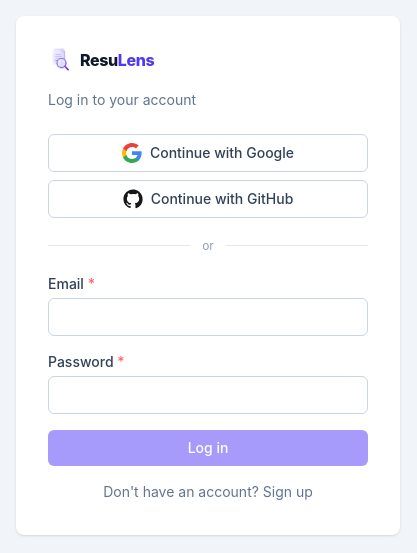
Test: AuthPage — login › login only requires non-empty fields — the real check is server-side
Expected: the button "Log in" is disabled, [48,430,368,466]
Type "a@b.com" into the field labelled "Email *". click: (208, 316)
box: [48,298,368,336]
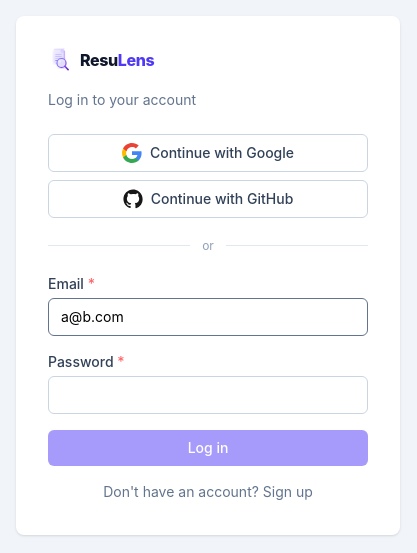
Type "x" into the password field labelled "Password *". click: (208, 394)
box: [48,376,368,414]
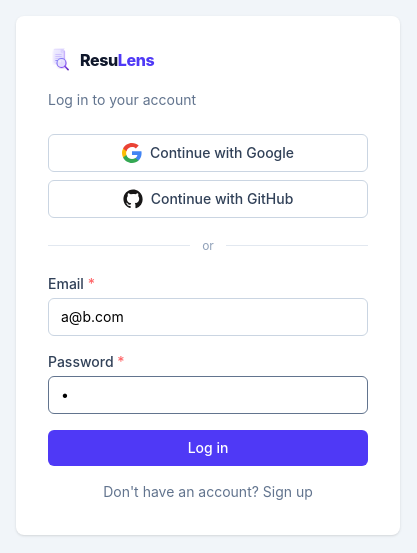
Expected: the button "Log in" is enabled, [48,430,368,466]
